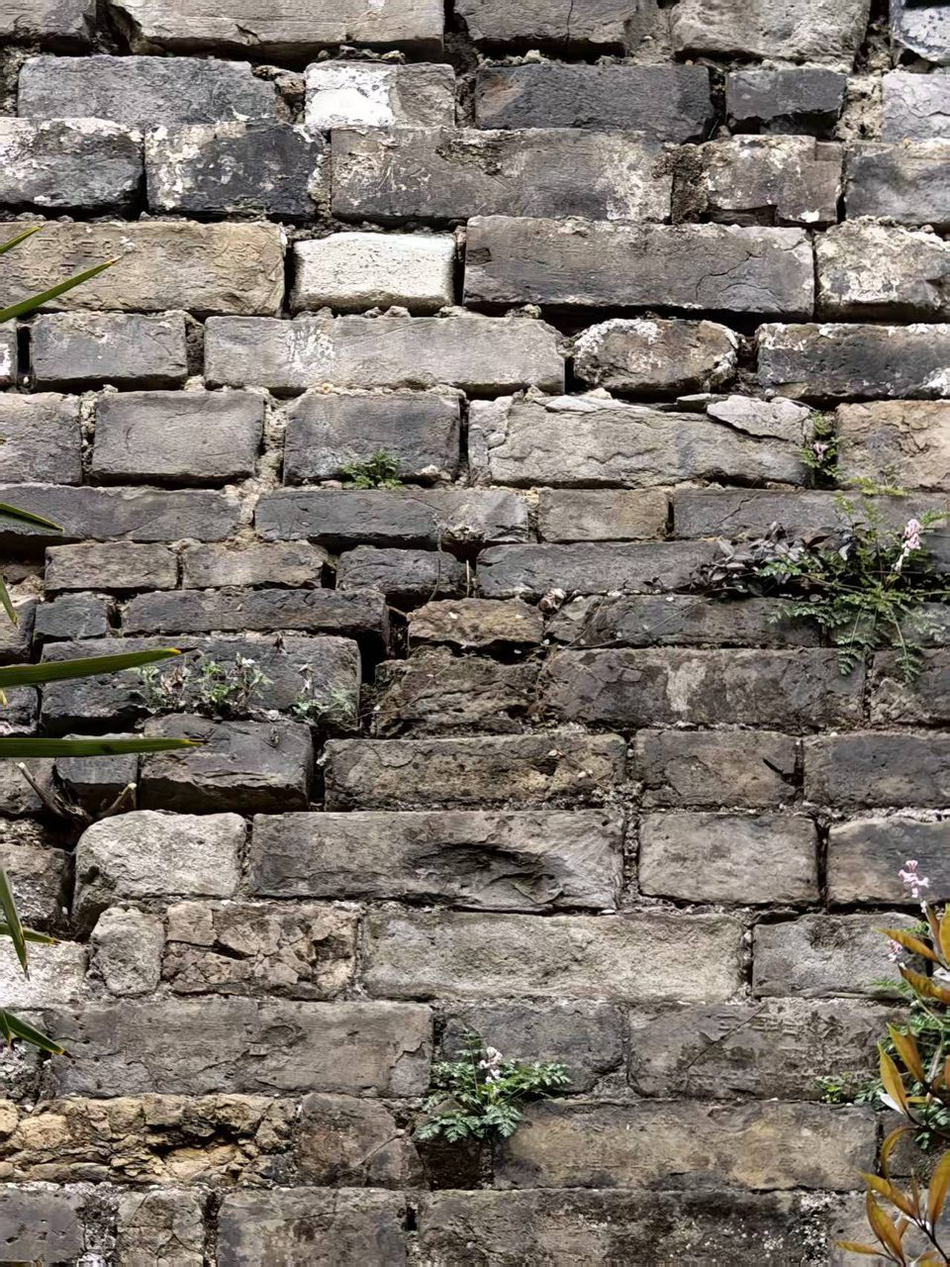crack: (796, 1, 939, 311)
